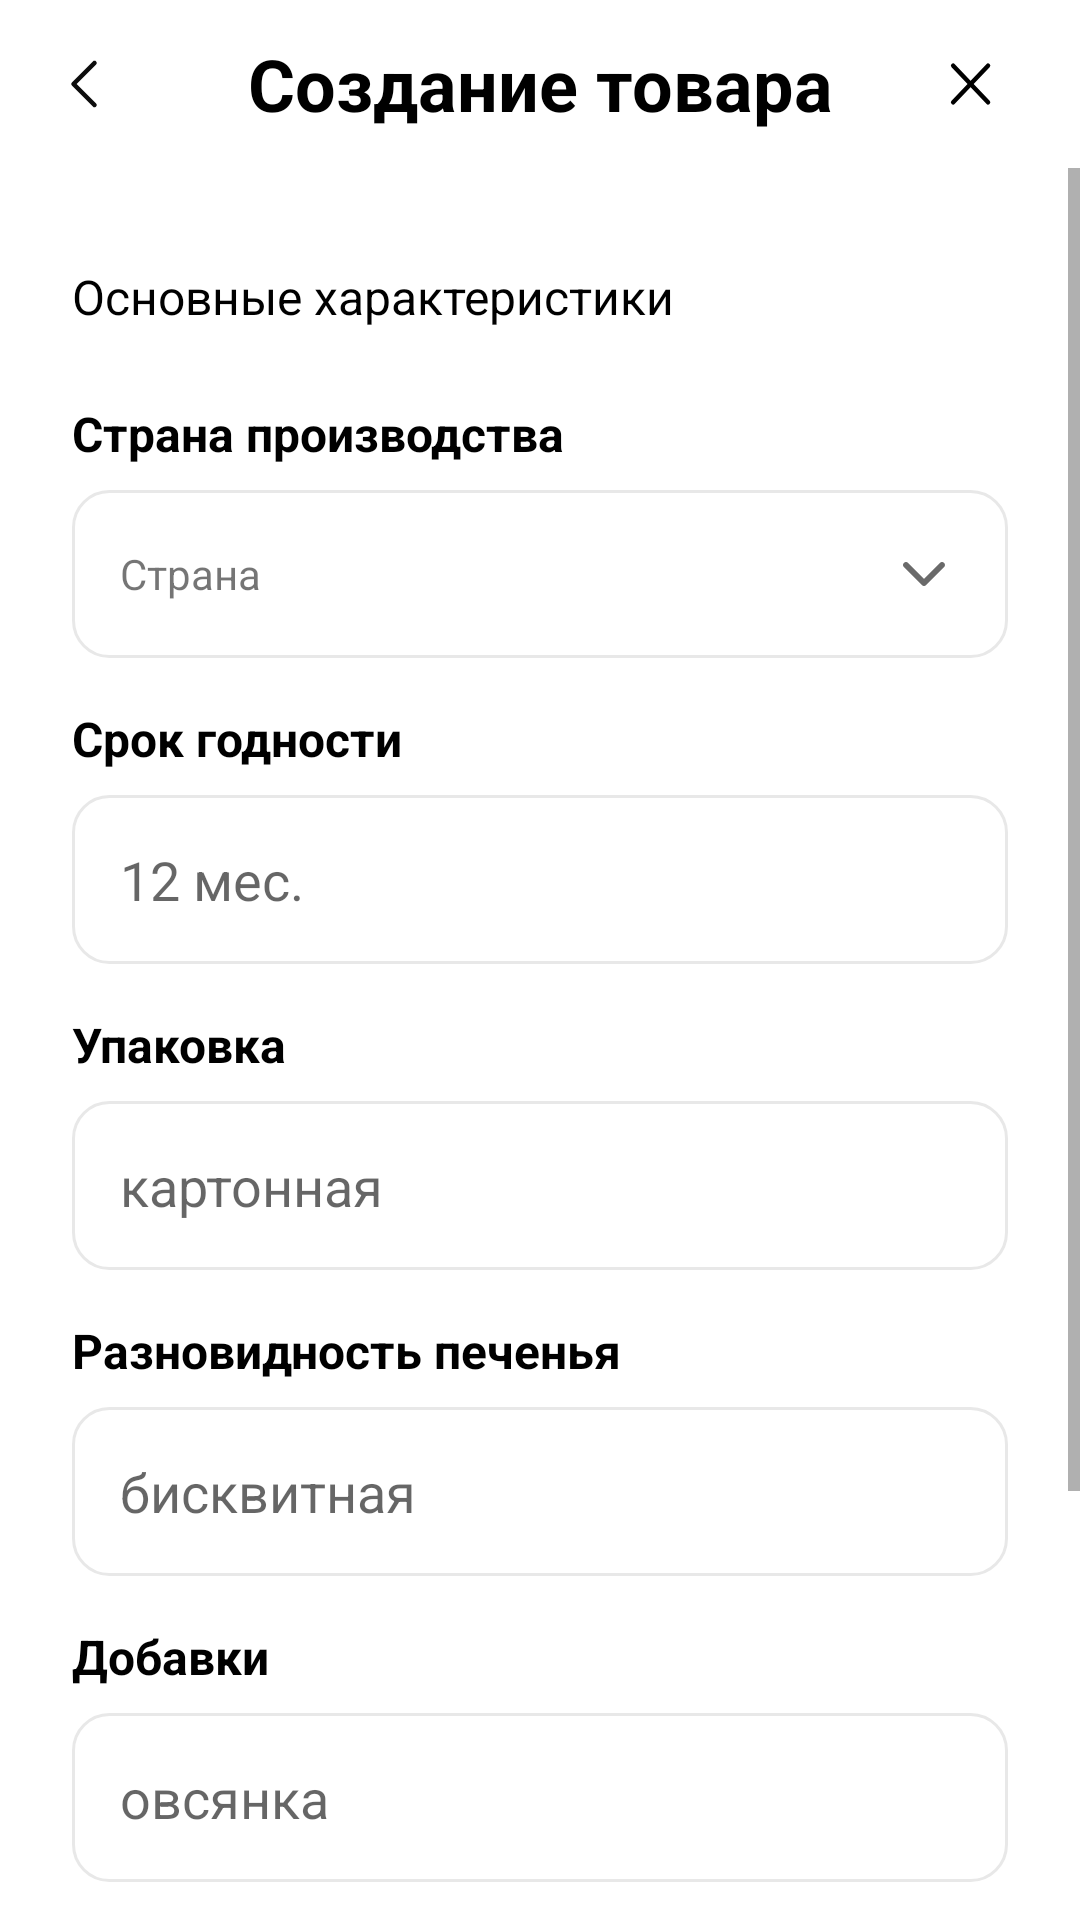

Named icons in this screenshot (1080 × 1920) and their bounding boxes, (x1, y1, x2, y2):
close: (951, 63, 991, 105)
